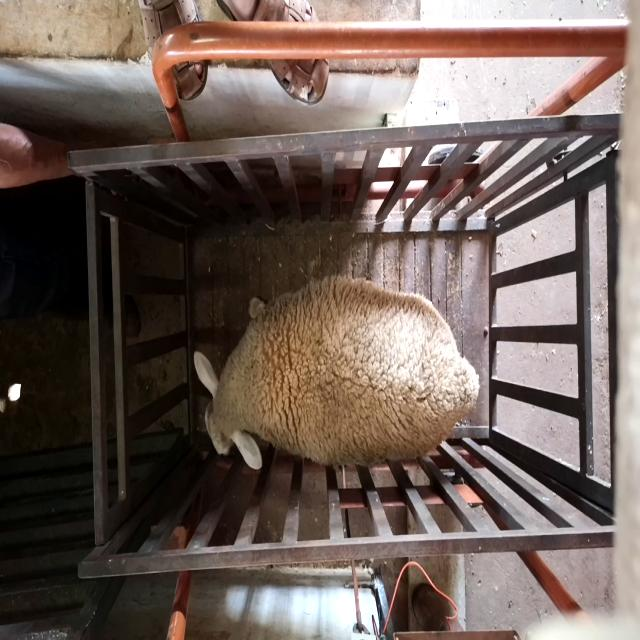sheep: (194, 273, 480, 470)
